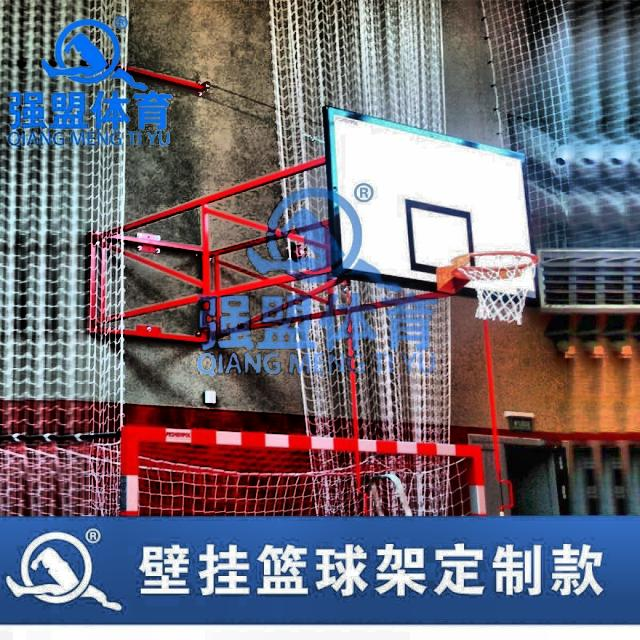rim: (456, 250, 539, 324)
